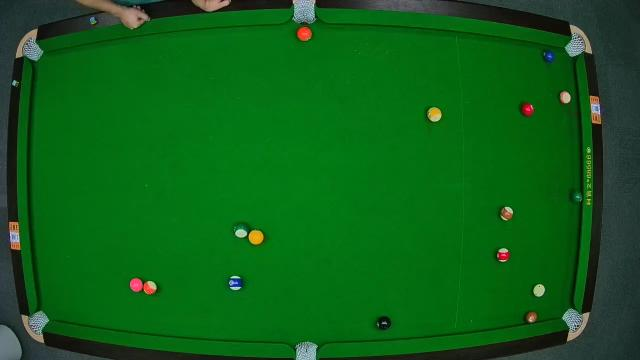bag1: (20, 40, 40, 61)
bag2: (292, 1, 316, 25)
bag3: (566, 35, 588, 55)
bag4: (28, 311, 48, 333)
bag5: (293, 340, 319, 360)
bag6: (562, 308, 582, 332)
ball0: (532, 283, 546, 297)
ball1: (246, 230, 264, 246)
ball10: (228, 274, 244, 292)
ball11: (496, 248, 510, 262)
ball12: (558, 91, 572, 107)
ball13: (142, 280, 158, 296)
ball14: (234, 224, 252, 240)
ball15: (500, 206, 514, 222)
ball2: (541, 50, 555, 62)
ball3: (521, 102, 535, 116)
ball4: (130, 278, 144, 294)
ball5: (296, 26, 312, 42)
ball6: (570, 188, 584, 204)
ball7: (524, 311, 538, 325)
ball8: (376, 316, 392, 330)
ball9: (427, 107, 443, 123)
